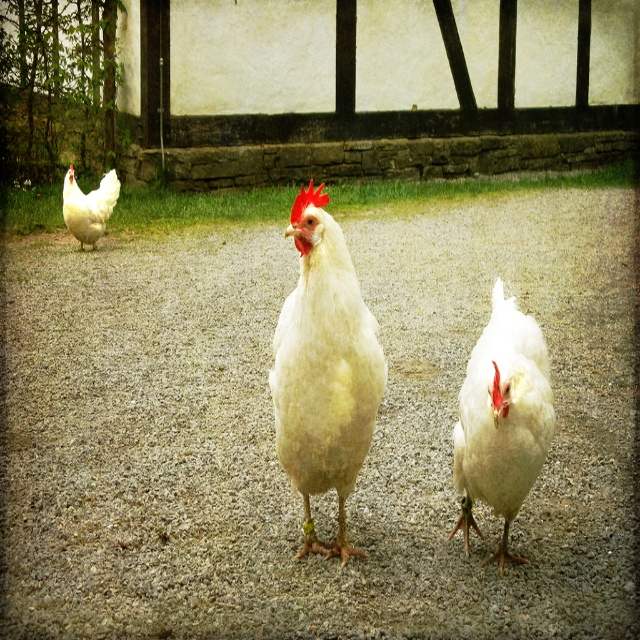Chicken: (281, 178, 394, 591), (446, 275, 555, 575), (61, 162, 121, 252)
